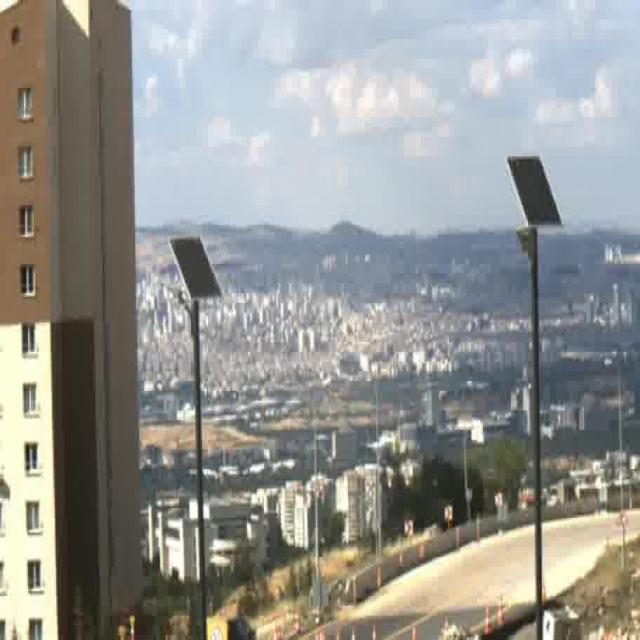Car: (227, 617, 255, 640)
